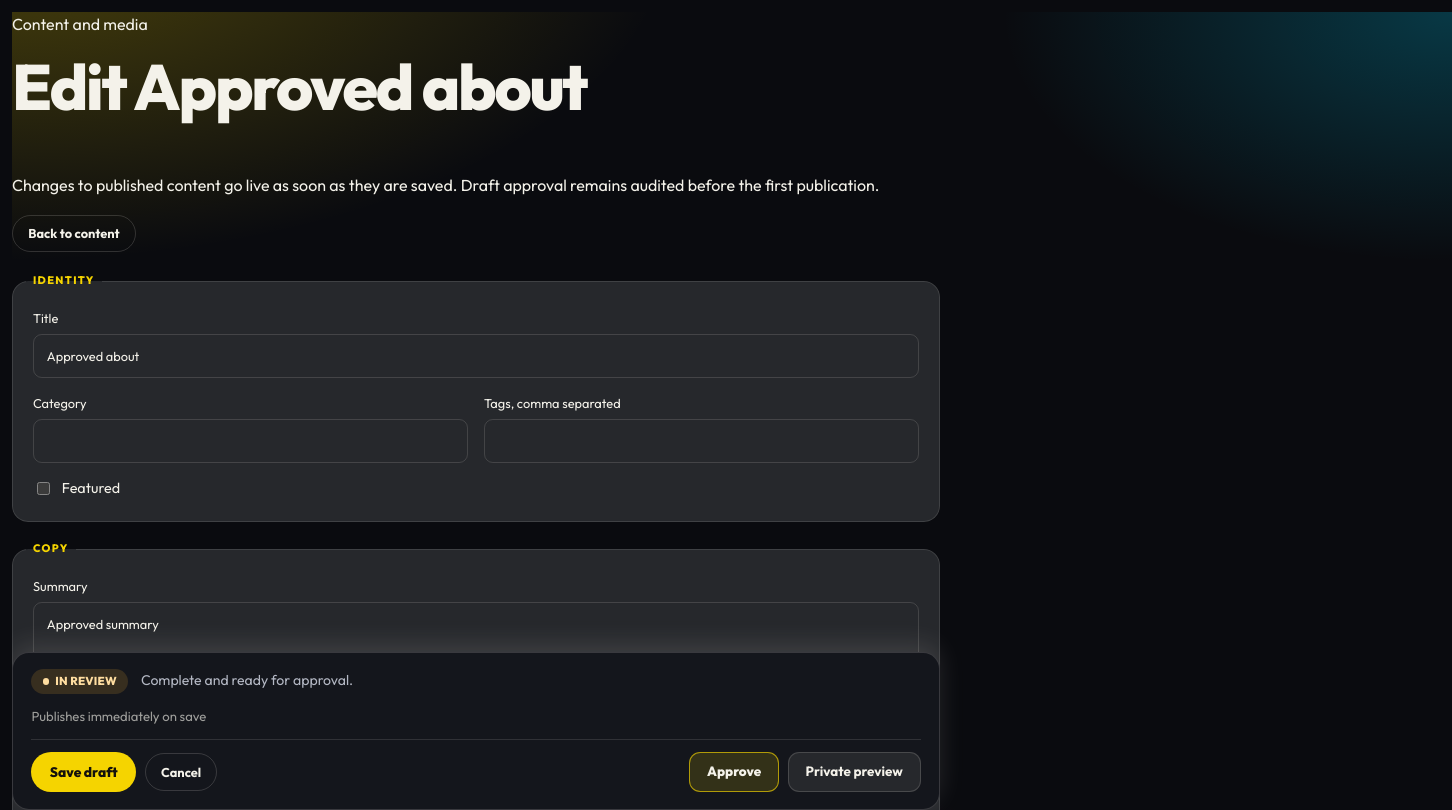
shows content-safe errors without exposing infrastructure detail
Step 1. Click the button "Save draft" → (84, 772), box [31,752,136,792]
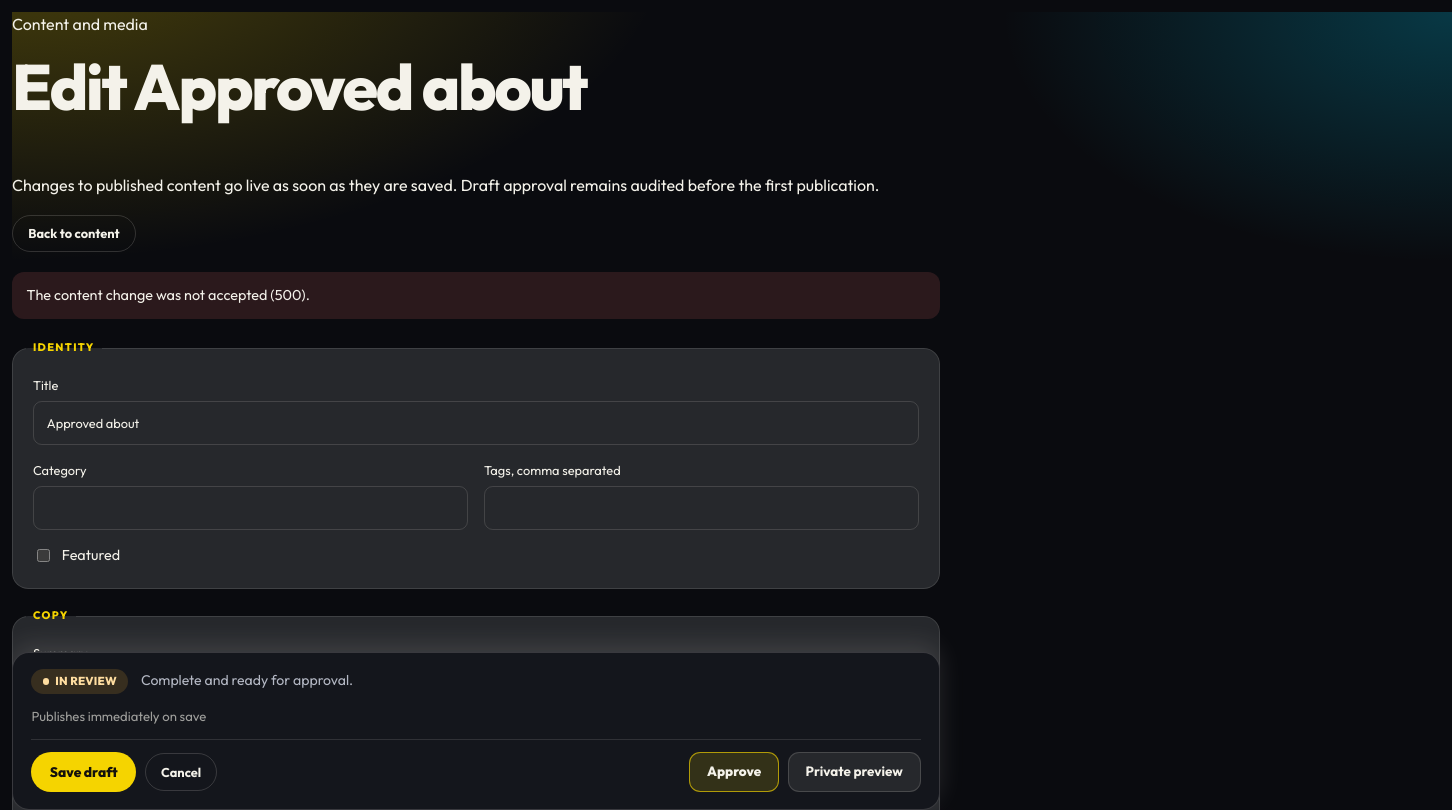
Expected: the message "The content change was not accepted (500)." is shown, [12,272,940,319]
